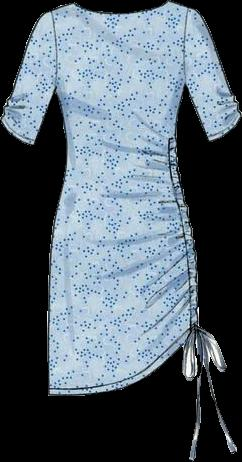Bodice: (50, 2, 187, 155)
Hemline: (47, 325, 200, 398)
Neckline: (74, 0, 170, 17)
Skirt: (47, 155, 199, 395)
Sleeve: (182, 7, 241, 140), (2, 11, 53, 144)
Sleeveline: (179, 8, 190, 85), (47, 11, 57, 89)
